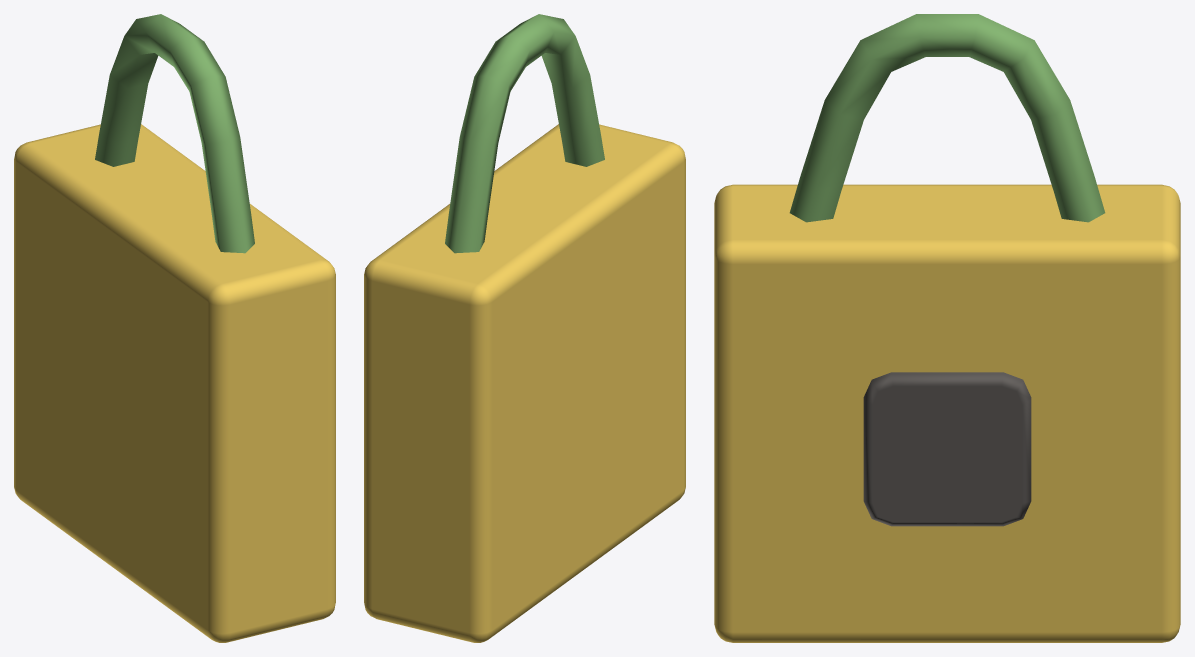
The model's file is electronics_store_paper_bag.glb.
3 views of the same model, side by side, from view 1: azimuth 30°, elevation 25°; view 2: azimuth 150°, elevation 25°; view 3: azimuth 270°, elevation 25° (orthographic). The views are drawn at different scales.
Parts seen in each view (by area): view 1: electronics_store_paper_bag_ArmR; view 2: electronics_store_paper_bag_ArmR; view 3: electronics_store_paper_bag_ArmR.
Part boxes in pixels (left/top/right/bottom): electronics_store_paper_bag_ArmR: left=14, top=14, right=335, bottom=642; electronics_store_paper_bag_ArmR: left=364, top=14, right=685, bottom=642; electronics_store_paper_bag_ArmR: left=714, top=14, right=1180, bottom=642.
Bounding box in the file's own units: 0.076 × 0.2842 × 0.2.
